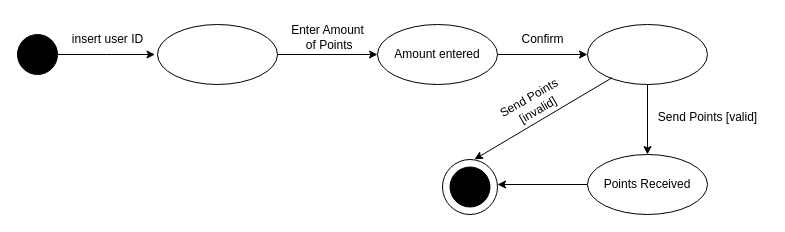
Image size: 785x232. Some labels were removed from this diagram. The shapes that lost their labels are listed below. From the top down, each one's centre as x and y in pixels, then its label:
(217,54): Put in reason for reward
(647,54): Confirming Reward
